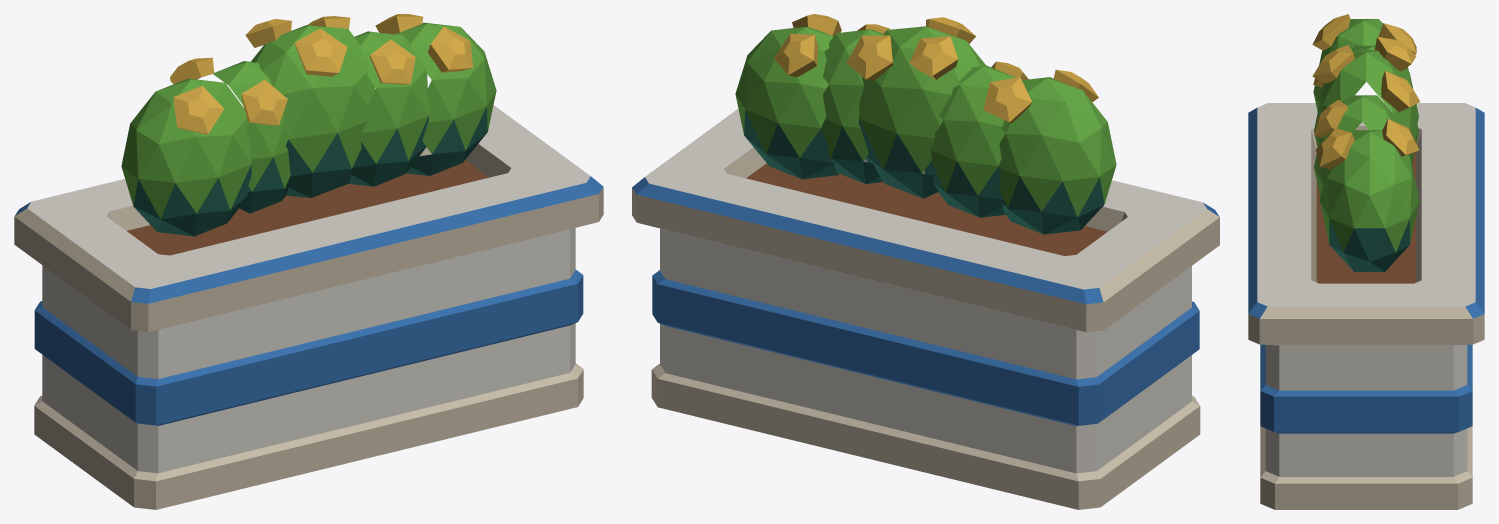
File: saksi_3.glb
3 views of the same model, side by side, from view 1: azimuth 30°, elevation 25°; view 2: azimuth 150°, elevation 25°; view 3: azimuth 270°, elevation 25° (orthographic). The views are drawn at different scales.
Parts seen in each view (by area): view 1: saksi_3; view 2: saksi_3; view 3: saksi_3.
Boxes of the visible parts, x1,y1,x2,y2 form: saksi_3: [14, 14, 603, 509]; saksi_3: [632, 14, 1219, 509]; saksi_3: [1248, 14, 1484, 509].
Bounding box in the file's own units: 0.95 × 0.7543 × 0.45.
